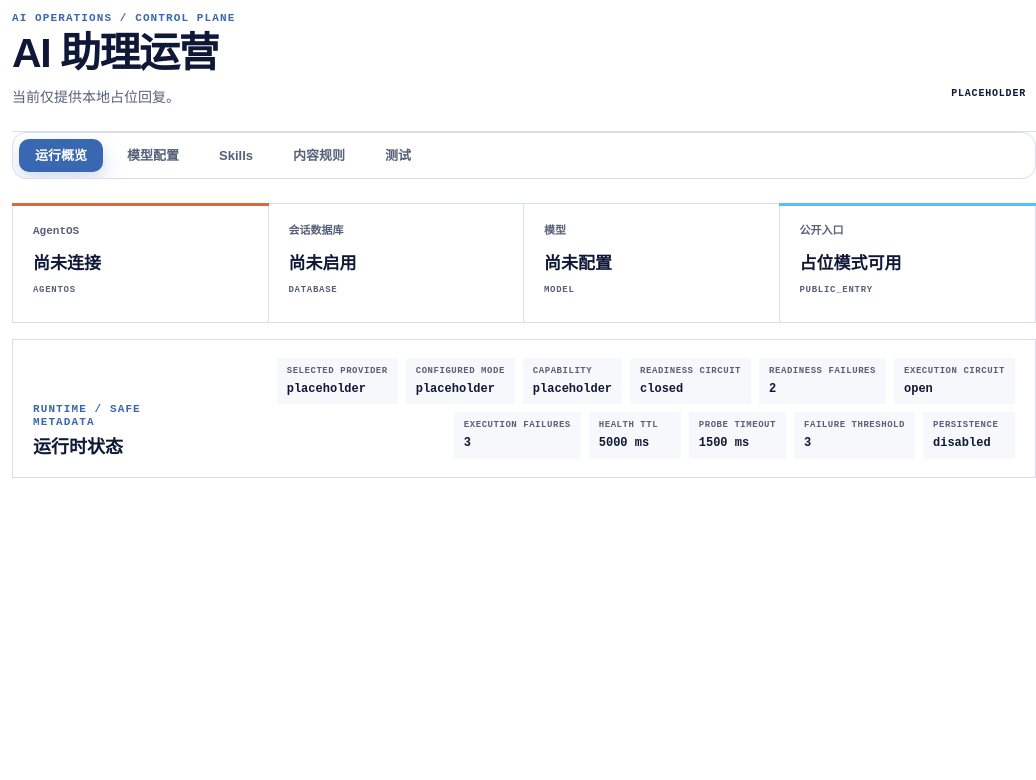
it: AssistantAdminPage › shows four honest status cells and read-only configuration
The image size is (1036, 780).
Expected: the number of list items with test id "assistant-status-cell" is 4, [13, 204, 268, 322]; [268, 204, 524, 322]; [524, 204, 780, 322]; [800, 225, 902, 295]
Expected: the text "AgentOS" is shown, [33, 225, 79, 237]
Step 1. Click the tab "模型配置" → (153, 156), box [111, 139, 195, 172]
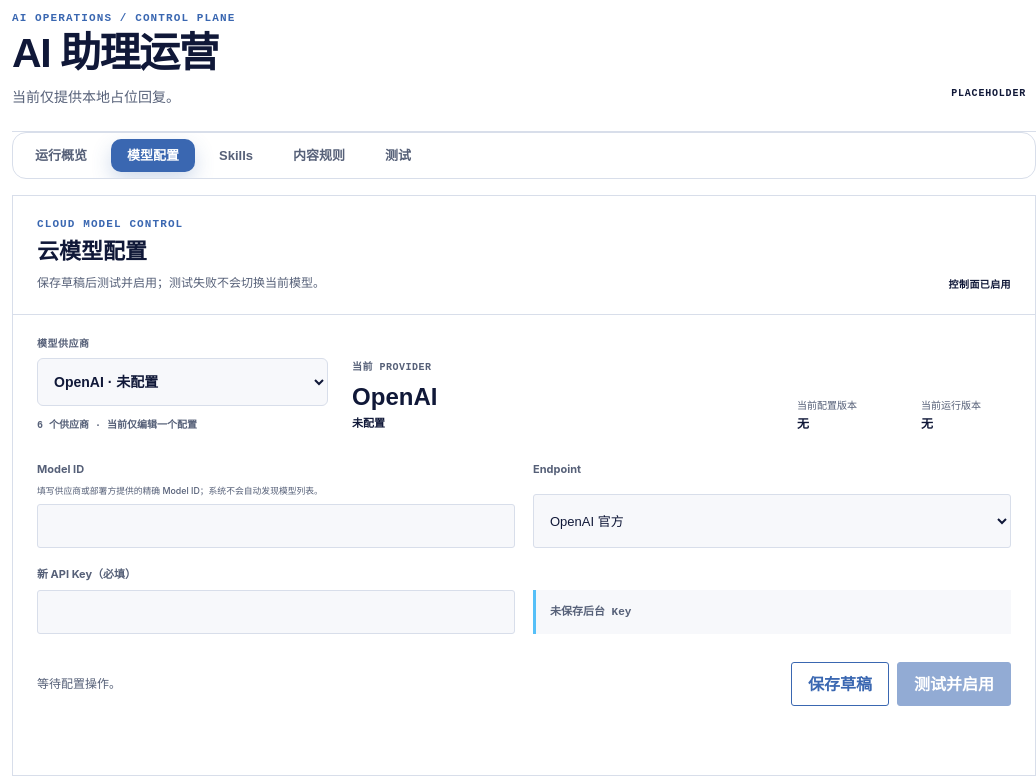
Expected: the password field labelled "新 API Key（必填）" is empty, [37, 590, 515, 634]
Expected: the number of password fields is 1, [37, 590, 515, 634]
